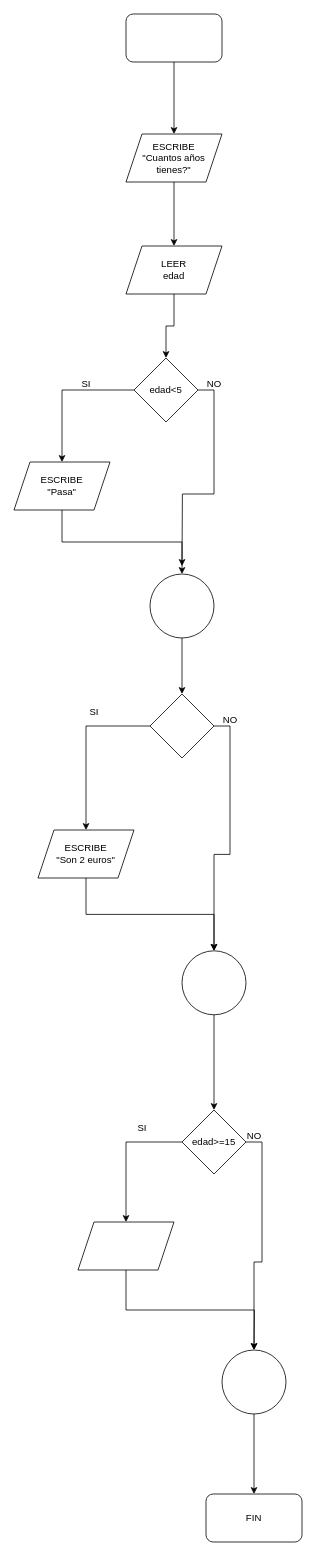
Some shapes in this 316 by 1556 pixel diagram are drawn without their labels. The shapes that lost their labels are listed below. From the top down, each one's centre as x and y in pixels, then its label:
point 173,37: INICIO
point 181,725: edad >= 5 && edad <15
point 125,1245: ESCRIBE "Son 3 euros"
